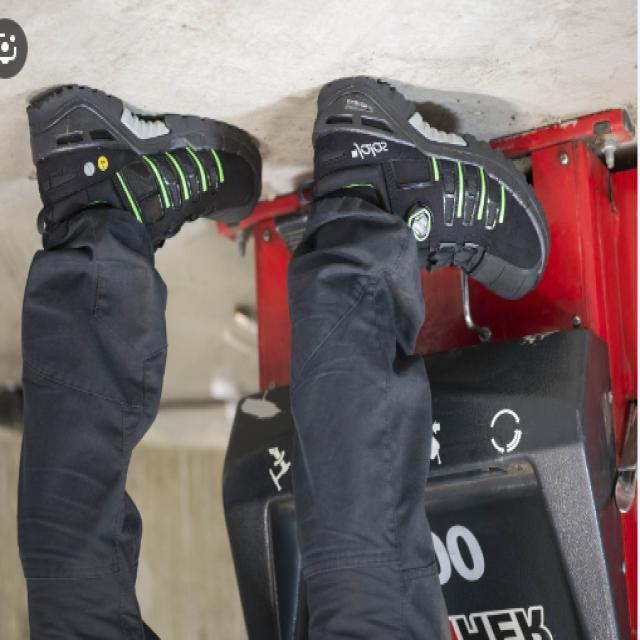boots: (23, 69, 550, 342)
